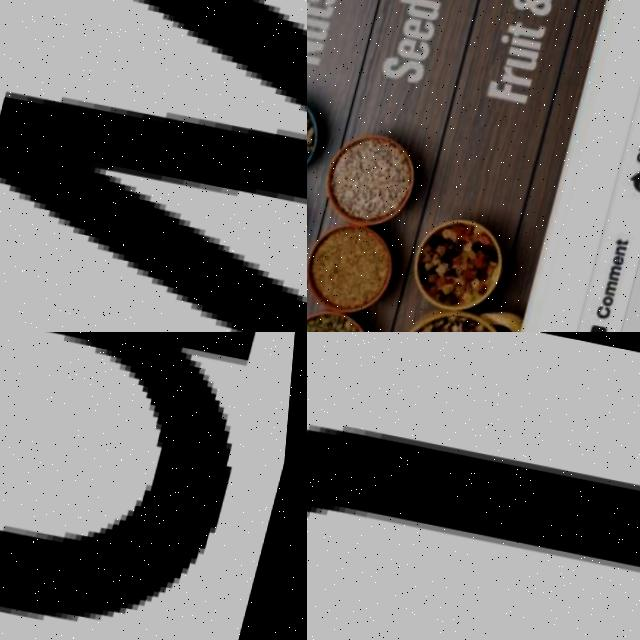C: (604, 301, 621, 316)
D: (400, 0, 447, 18)
E: (401, 33, 437, 60), (405, 13, 442, 39), (621, 250, 635, 262)
F: (492, 76, 537, 102)
I: (505, 31, 547, 48)
M: (613, 277, 626, 293), (617, 261, 630, 277)
N: (307, 387, 640, 640), (307, 32, 330, 64), (623, 241, 636, 252)
O: (611, 292, 623, 304)
R: (507, 63, 540, 83)
S: (384, 51, 434, 81)
T: (512, 16, 551, 39), (307, 0, 339, 19), (624, 234, 638, 242)
U: (0, 332, 286, 640), (511, 43, 545, 68), (307, 13, 336, 40)
W: (0, 0, 307, 332)
